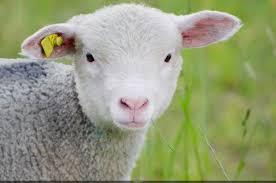Non_Gorille: (8, 8, 225, 179)
